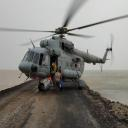helicopter: (8, 10, 121, 93)
